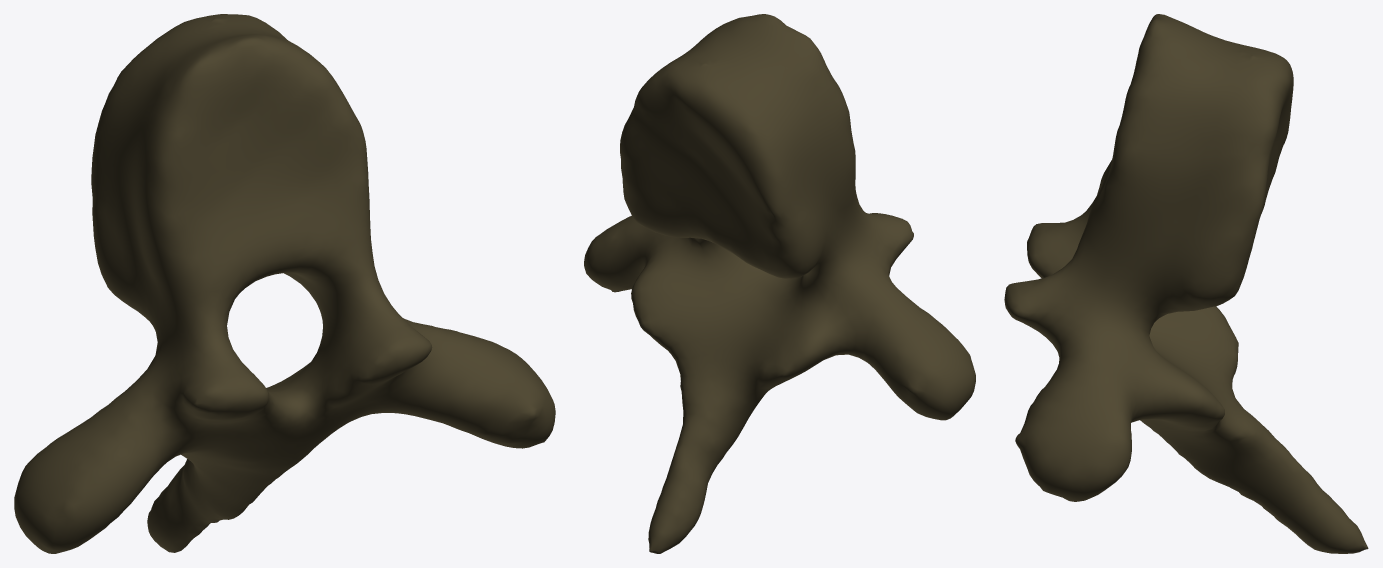
File: segmentations_vertebrae_T5.obj
3 views of the same model, side by side, from view 1: azimuth 30°, elevation 25°; view 2: azimuth 150°, elevation 25°; view 3: azimuth 270°, elevation 25° (orthographic). The views are drawn at different scales.
Visible parts, largest first — view 1: grp1; view 2: grp1; view 3: grp1.
Boxes of the visible parts, x1,y1,x2,y2 form: grp1: [14, 14, 555, 553]; grp1: [584, 14, 975, 553]; grp1: [1004, 14, 1368, 553].
Size of the model in its own units: 40.88 by 46.76 by 29.64.
